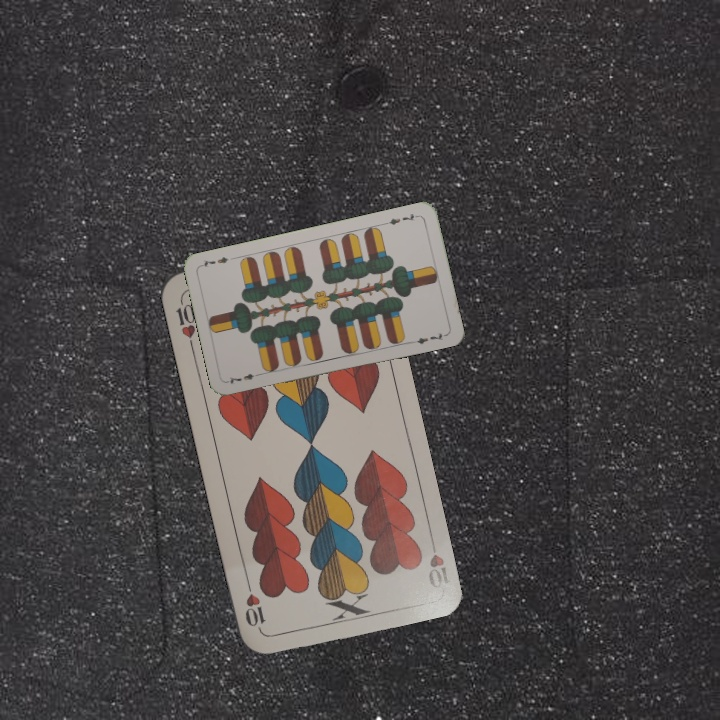E7: (381, 209, 421, 227), (224, 369, 264, 387)
H10: (424, 531, 452, 591), (171, 291, 199, 350)
